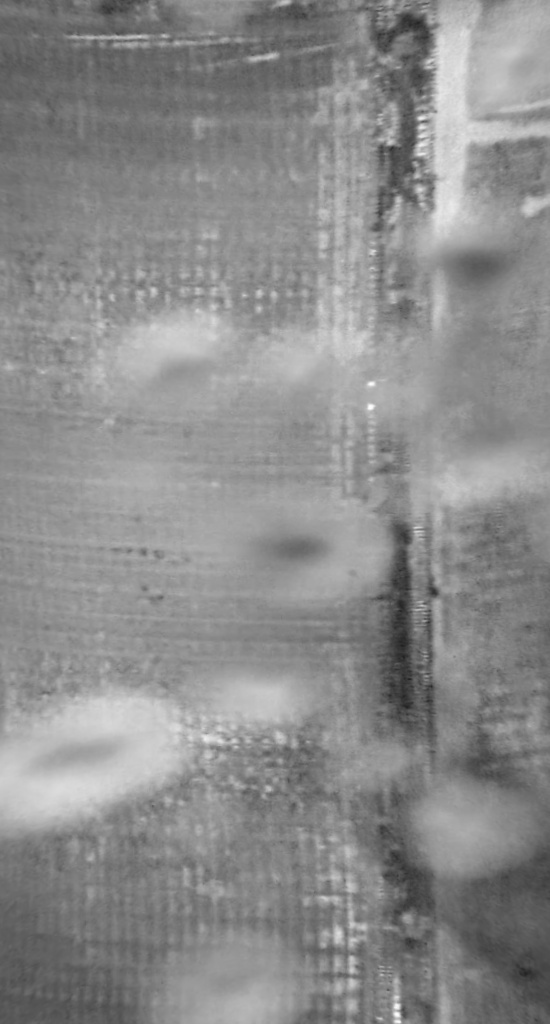splice: (360, 1, 457, 1021)
